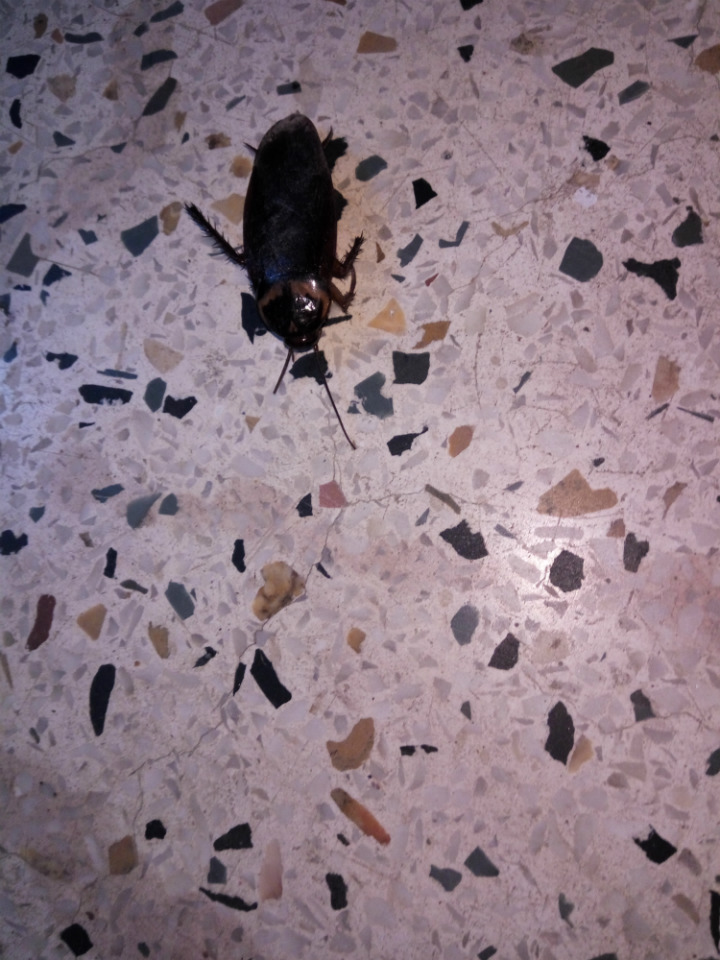cockroach: (135, 56, 472, 505)
